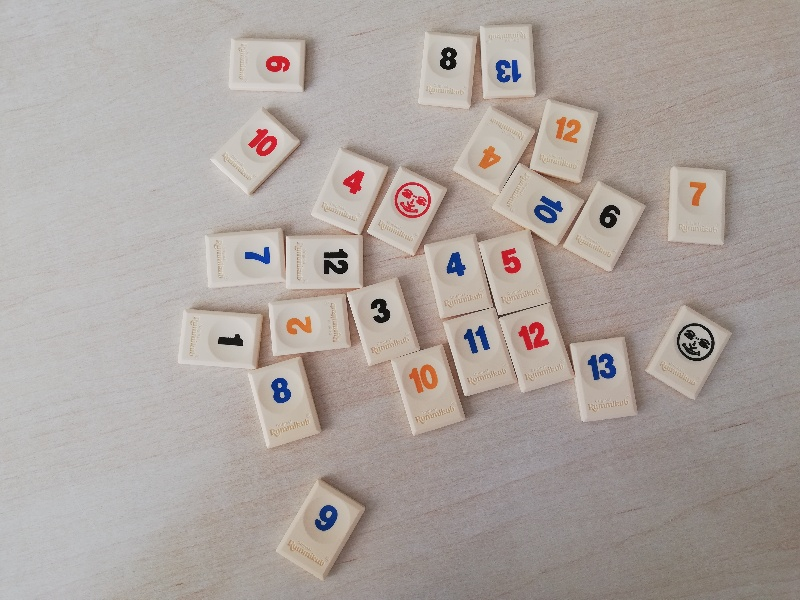1: (177, 308, 267, 372)
10: (210, 106, 307, 198), (390, 343, 472, 441), (492, 163, 585, 249)
11: (445, 308, 514, 397)
12: (502, 303, 577, 401), (528, 99, 600, 184), (285, 230, 367, 293)
13: (569, 334, 647, 425), (478, 22, 542, 103)
2: (267, 290, 350, 356)
3: (352, 275, 422, 368)
4: (449, 102, 535, 194), (313, 147, 389, 232), (425, 232, 494, 319)
5: (481, 227, 547, 316)
6: (561, 180, 649, 278), (223, 32, 316, 96)
7: (664, 163, 729, 248), (201, 227, 287, 289)
8: (247, 355, 326, 455), (420, 25, 476, 112)
9: (276, 478, 368, 585)
joker: (642, 299, 736, 406), (368, 164, 445, 259)
